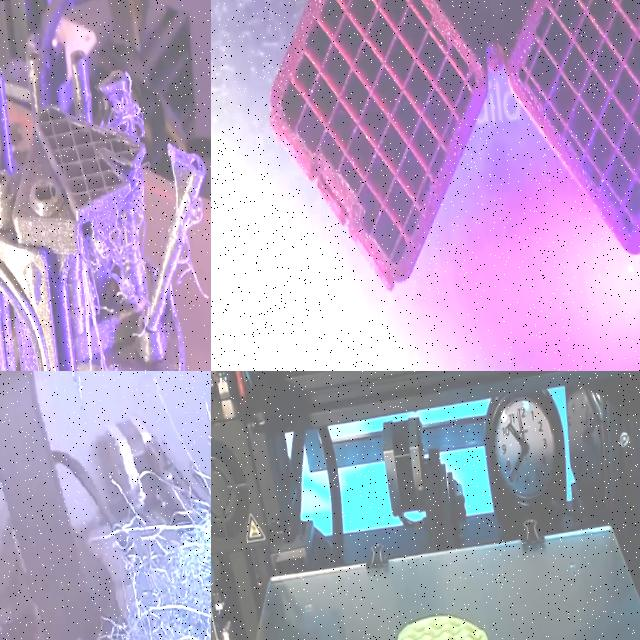spaghetti: (0, 371, 211, 640), (63, 193, 179, 371), (166, 197, 211, 311), (90, 53, 144, 141)
